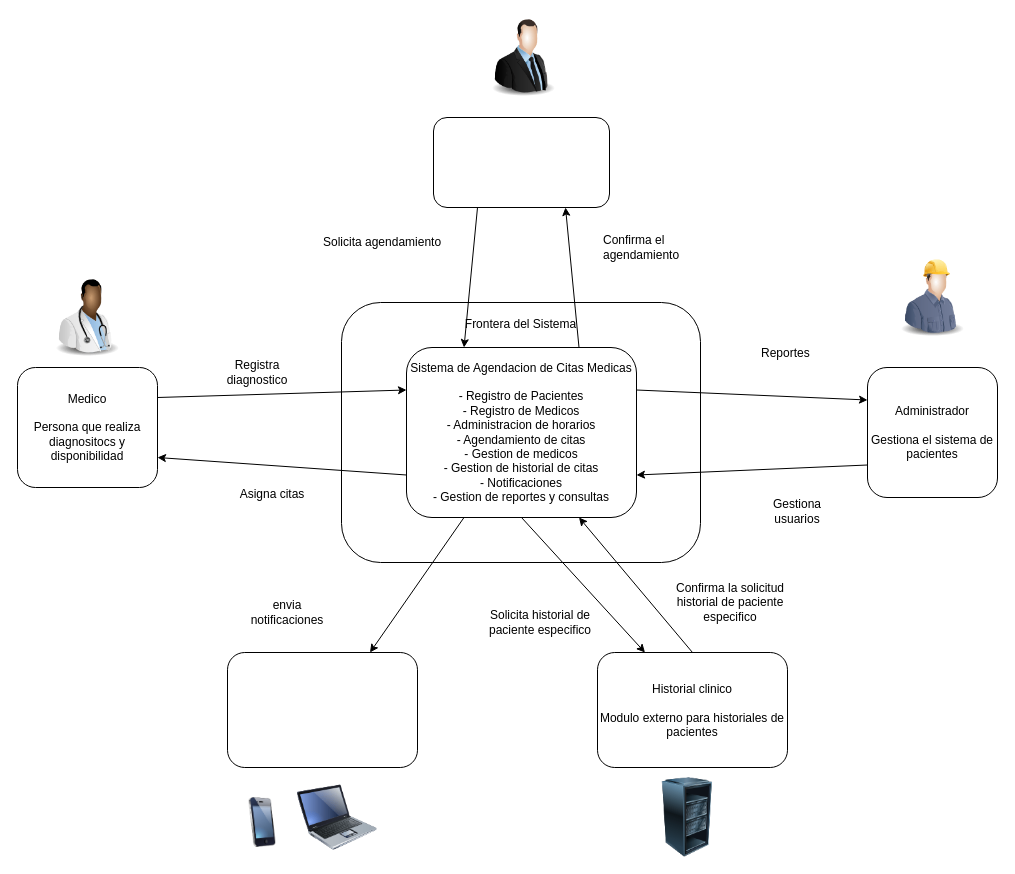
The diagram is 1015 pixels wide and 874 high, and some of its shapes have lost their labels. The shapes that lost their labels are listed below. From the top down, each one's box as (x1, y1, x2, y2) in pixels, then its label:
(432, 116, 610, 208): Paciente Usuario que solicita el agendamiento de citas
(226, 652, 418, 768): Correo recibe notificaciones
